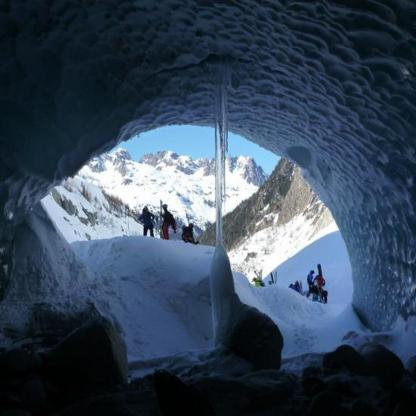face: (164, 208, 167, 211), (191, 226, 194, 229), (145, 209, 147, 213)
